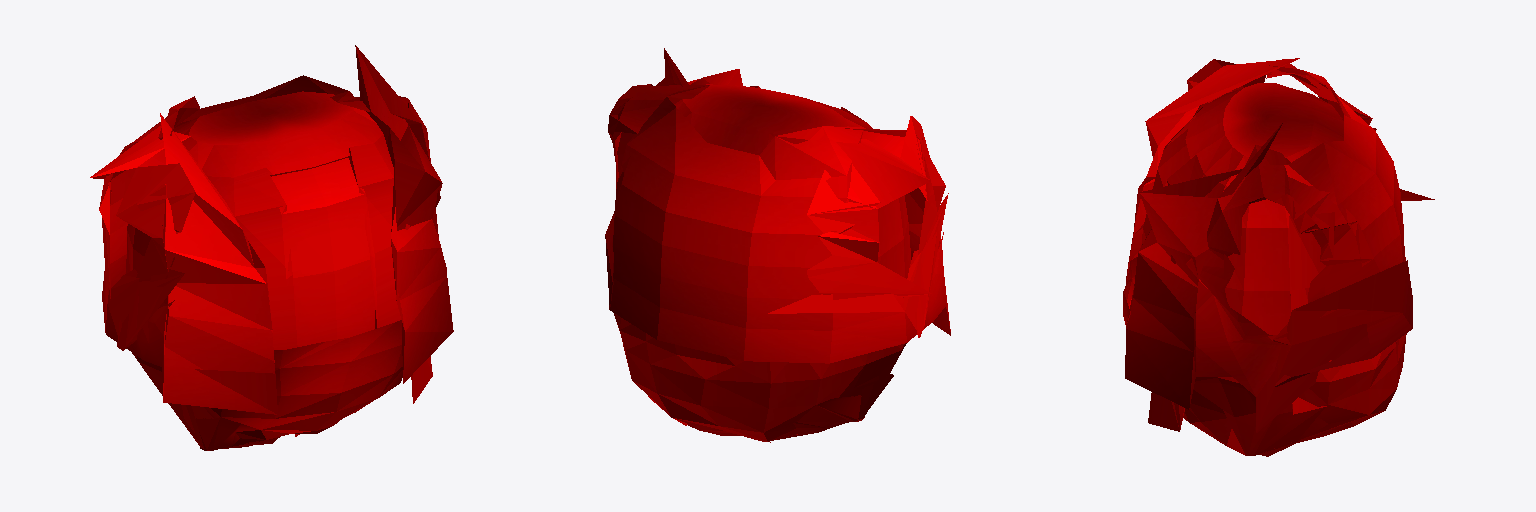
3 views of the same model, side by side, from view 1: azimuth 30°, elevation 25°; view 2: azimuth 150°, elevation 25°; view 3: azimuth 270°, elevation 25° (orthographic).
Size of the model in its own units: 2.7 by 2.88 by 2.21.
1 materials, 1 textured.